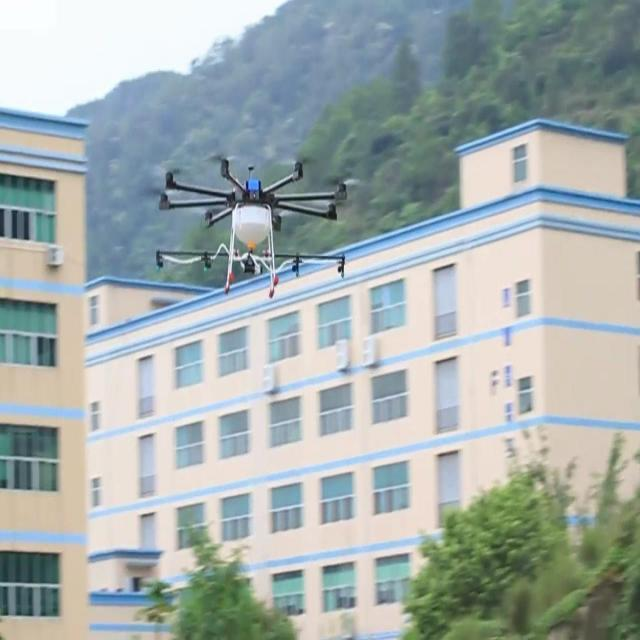UAV: (153, 153, 352, 300)
